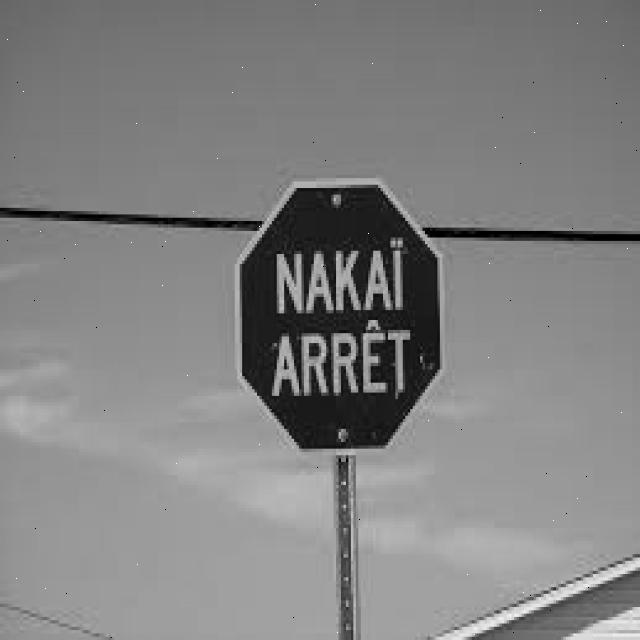stop sign: (234, 181, 444, 452)
